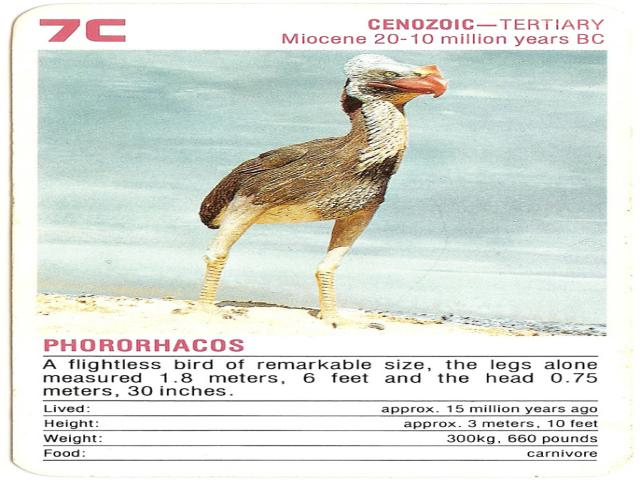Bird: (169, 52, 452, 328)
